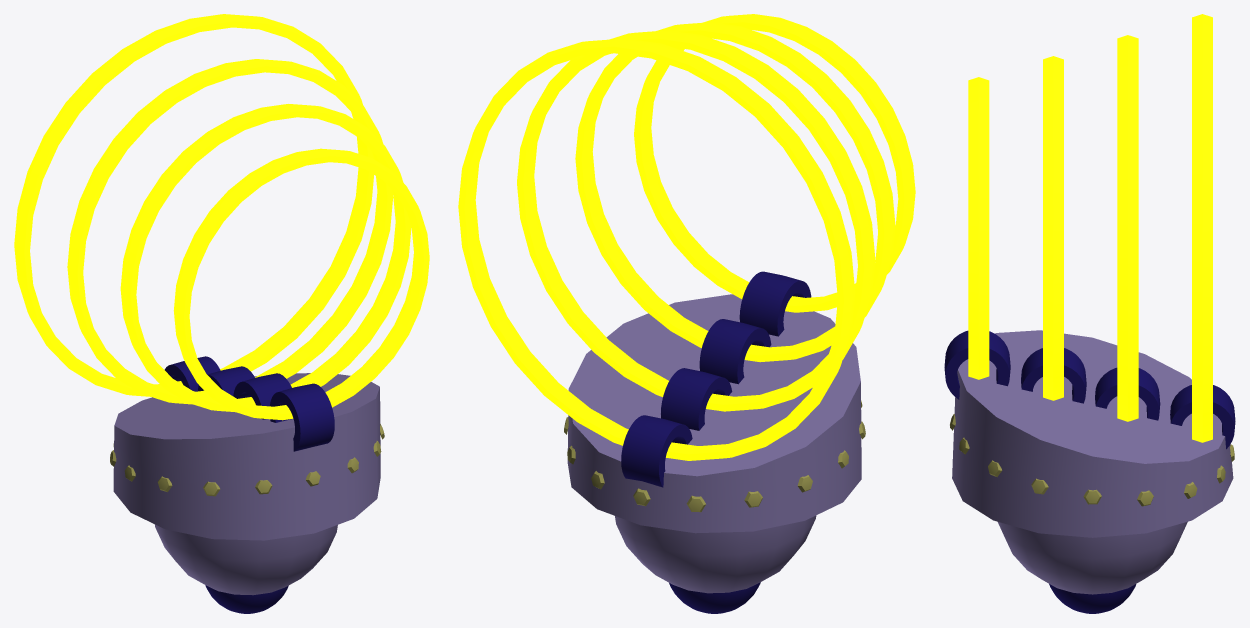
Rendered from tur rotate base.fbx.
The picture shows the model from 3 angles, left to right: view 1: azimuth 30°, elevation 25°; view 2: azimuth 150°, elevation 25°; view 3: azimuth 270°, elevation 25°; orthographic projection. The views are drawn at different scales.
Visible parts, largest first — view 1: Tur Canon, Tur Rotate Base, Tur detail, gears, Base TO Rotatew; view 2: Tur Canon, Tur Rotate Base, Tur detail, gears, Base TO Rotatew; view 3: Tur Rotate Base, Tur Canon, Tur detail, gears, Base TO Rotatew.
Part boxes in pixels (x1=…): Tur Canon: x1=14, y1=14, x2=429, y2=420; Tur Rotate Base: x1=113, y1=373, x2=380, y2=595; Tur detail: x1=164, y1=356, x2=334, y2=451; gears: x1=110, y1=424, x2=384, y2=496; Base TO Rotatew: x1=205, y1=585, x2=288, y2=613; Tur Canon: x1=458, y1=14, x2=915, y2=460; Tur Rotate Base: x1=567, y1=294, x2=861, y2=593; Tur detail: x1=621, y1=271, x2=811, y2=487; gears: x1=564, y1=400, x2=865, y2=512; Base TO Rotatew: x1=669, y1=582, x2=760, y2=613; Tur Rotate Base: x1=952, y1=330, x2=1233, y2=594; Tur Canon: x1=968, y1=14, x2=1212, y2=442; Tur detail: x1=944, y1=330, x2=1235, y2=449; gears: x1=950, y1=414, x2=1234, y2=506; Base TO Rotatew: x1=1049, y1=584, x2=1136, y2=613.
Size of the model in its own units: 2.14 by 3.17 by 1.45.
